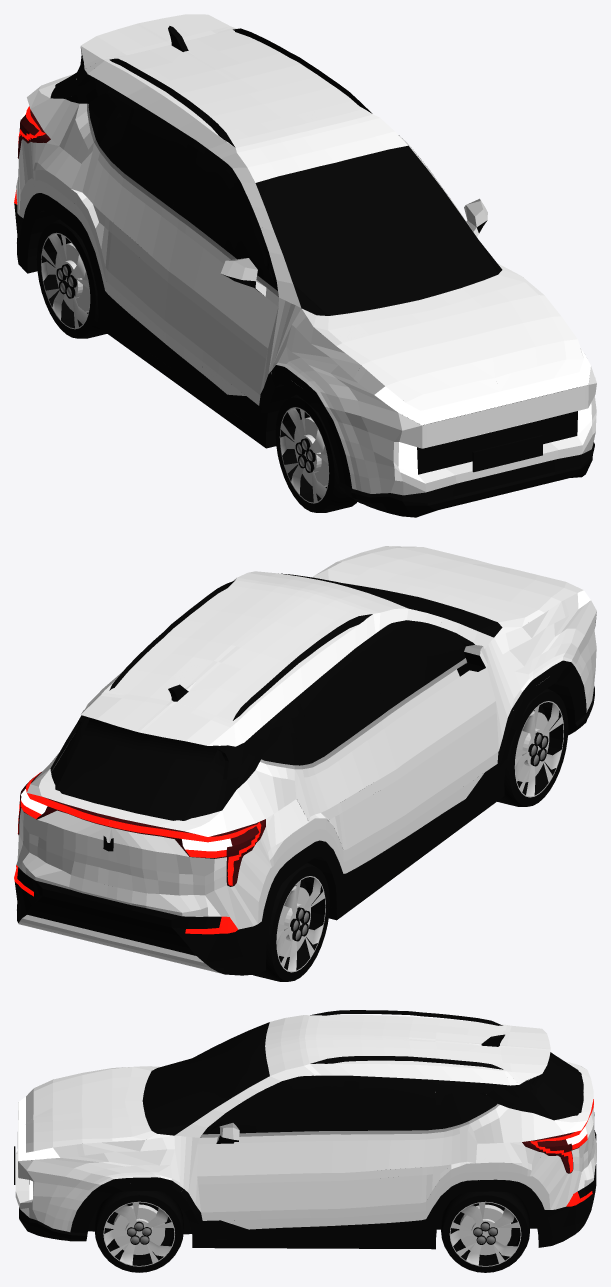
File: moskvich3.fbx
3 views of the same model, one above another, from view 1: azimuth 30°, elevation 25°; view 2: azimuth 150°, elevation 25°; view 3: azimuth 270°, elevation 25° (orthographic). The views are drawn at different scales.
Visible parts, largest first — view 1: Plane, Cylinder.012, Cylinder.023; view 2: Plane, Cylinder.023, Cylinder.012; view 3: Plane, Cylinder.011, Cylinder.
Boxes of the visible parts, box(x1,y1,x2,y2) form: Plane: box(14, 14, 596, 517); Cylinder.012: box(275, 394, 357, 512); Cylinder.023: box(36, 219, 106, 338); Plane: box(14, 546, 596, 975); Cylinder.023: box(253, 863, 329, 981); Cylinder.012: box(497, 688, 568, 806); Plane: box(14, 1010, 596, 1249); Cylinder.011: box(94, 1191, 183, 1272); Cylinder: box(441, 1191, 529, 1272).
Size of the model in its own units: 335 by 331 by 877.
